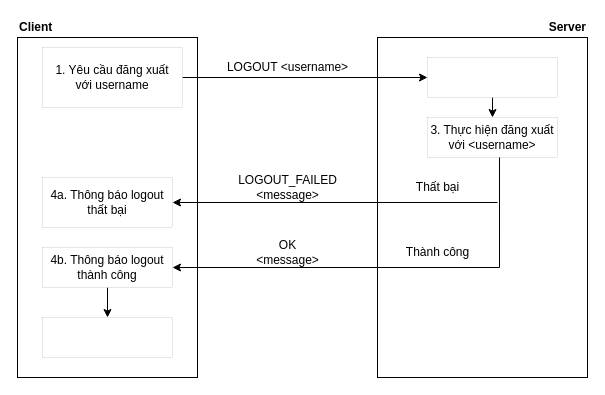
Some shapes in this 605 by 395 pixel diagram are drawn without their labels. Here are the shapes that lost their labels. From the top down, the box of each, then its label:
(427, 57, 557, 97): 2. Nhận yêu cầu LOGOUT
(42, 317, 172, 357): 5. Về trang chủ
